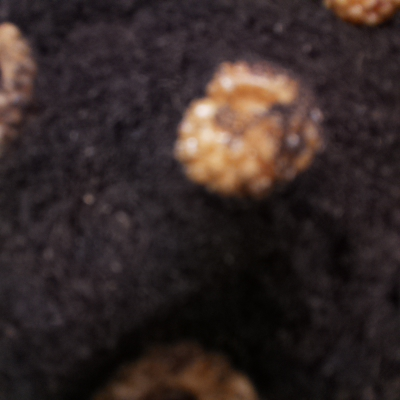eggs: (165, 52, 330, 212), (84, 324, 267, 400), (1, 19, 51, 167), (319, 1, 399, 33)
